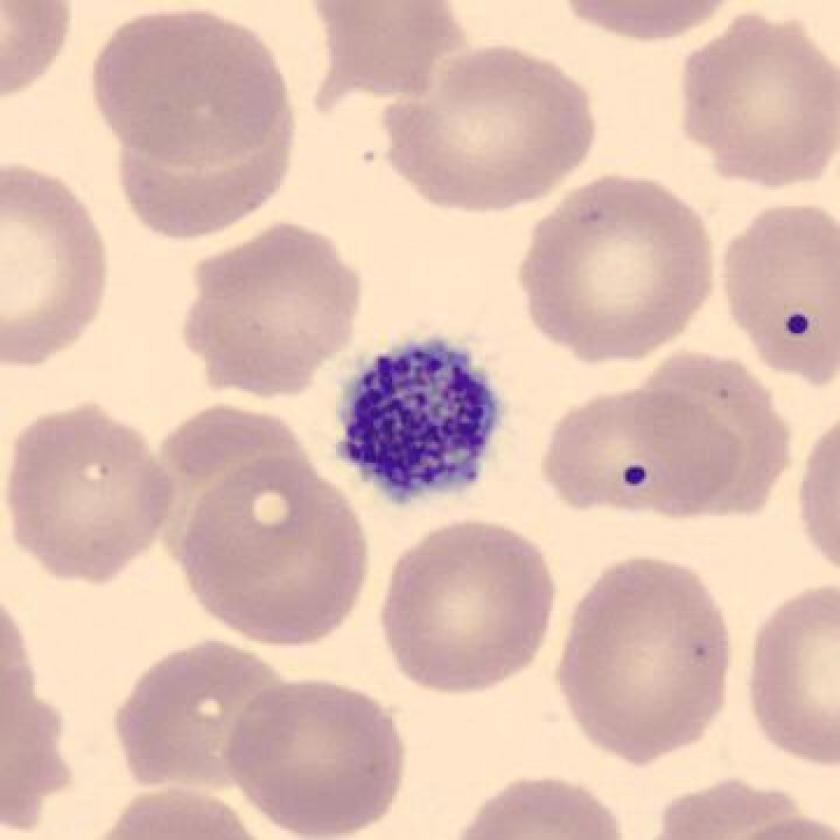platelets: (323, 327, 514, 515)
